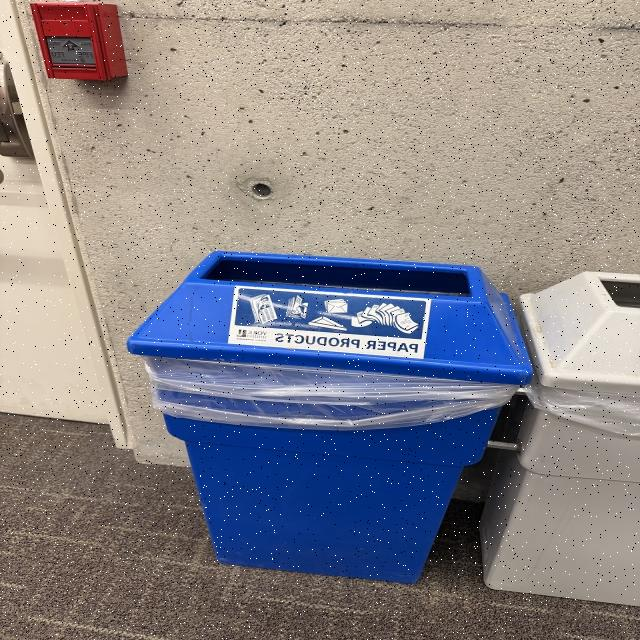Dustbin: (125, 251, 638, 606)
